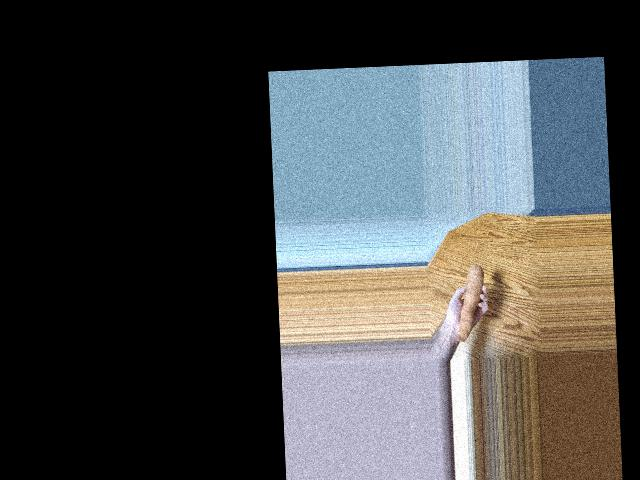sweet_potato: (456, 262, 488, 338)
